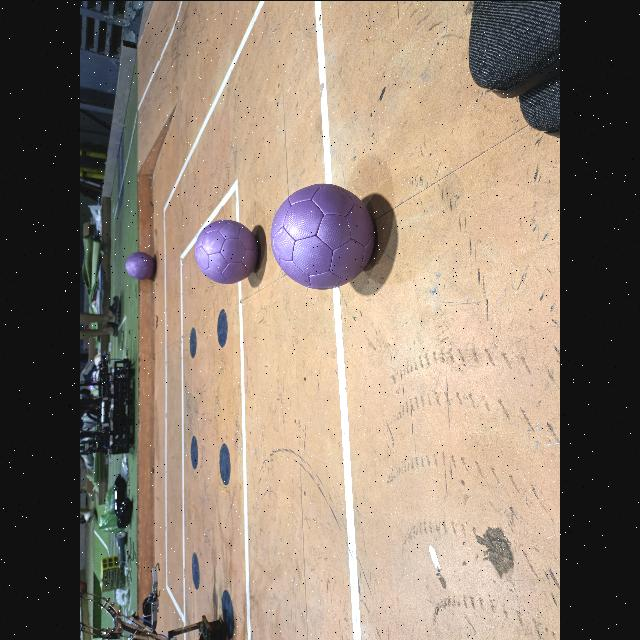P: (271, 184, 374, 288), (194, 220, 258, 282), (126, 252, 154, 278)
